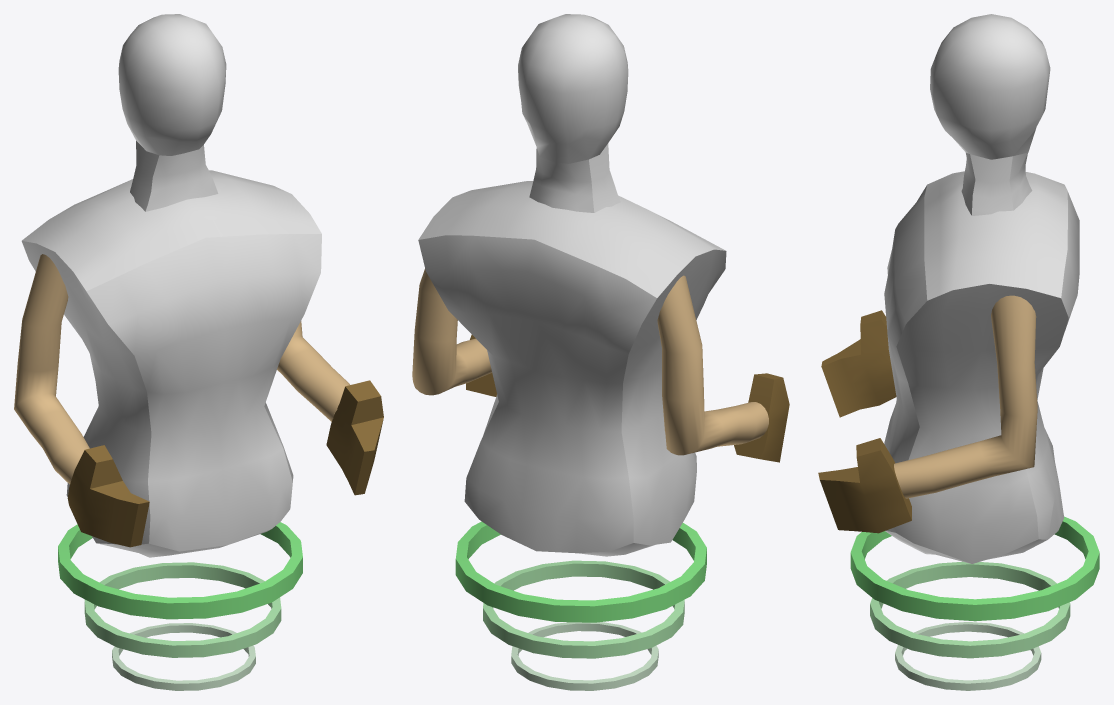
The model's file is enemy2.fbx.
3 renders of one model, left to right at view 1: azimuth 30°, elevation 25°; view 2: azimuth 150°, elevation 25°; view 3: azimuth 270°, elevation 25°, orthographic. The views are drawn at different scales.
Parts seen in each view (by area): view 1: body, head, arm, hund, pPipe1, pasted__pPipe1, pasted__pPipe2; view 2: body, head, arm, pPipe1, pasted__pPipe1, hund, pasted__pPipe2; view 3: body, head, arm, hund, pPipe1, pasted__pPipe1, pasted__pPipe2.
Part boxes in pixels (left/top/right/bottom): body: left=21, top=170, right=321, bottom=557; head: left=118, top=14, right=226, bottom=211; arm: left=14, top=254, right=349, bottom=484; hund: left=67, top=380, right=383, bottom=547; pPipe1: left=58, top=522, right=302, bottom=619; pasted__pPipe1: left=84, top=562, right=281, bottom=657; pasted__pPipe2: left=112, top=623, right=255, bottom=690; body: left=418, top=181, right=726, bottom=556; head: left=518, top=14, right=628, bottom=212; arm: left=412, top=268, right=768, bottom=455; pPipe1: left=455, top=521, right=706, bottom=622; pasted__pPipe1: left=483, top=560, right=684, bottom=658; hund: left=466, top=334, right=789, bottom=462; pasted__pPipe2: left=511, top=622, right=658, bottom=690; body: left=884, top=171, right=1079, bottom=563; head: left=930, top=14, right=1050, bottom=215; arm: left=894, top=295, right=1037, bottom=498; hund: left=818, top=310, right=911, bottom=533; pPipe1: left=850, top=516, right=1099, bottom=621; pasted__pPipe1: left=870, top=561, right=1070, bottom=658; pasted__pPipe2: left=895, top=622, right=1041, bottom=690.
Size of the model in its own units: 5.3 by 10.76 by 4.29.
